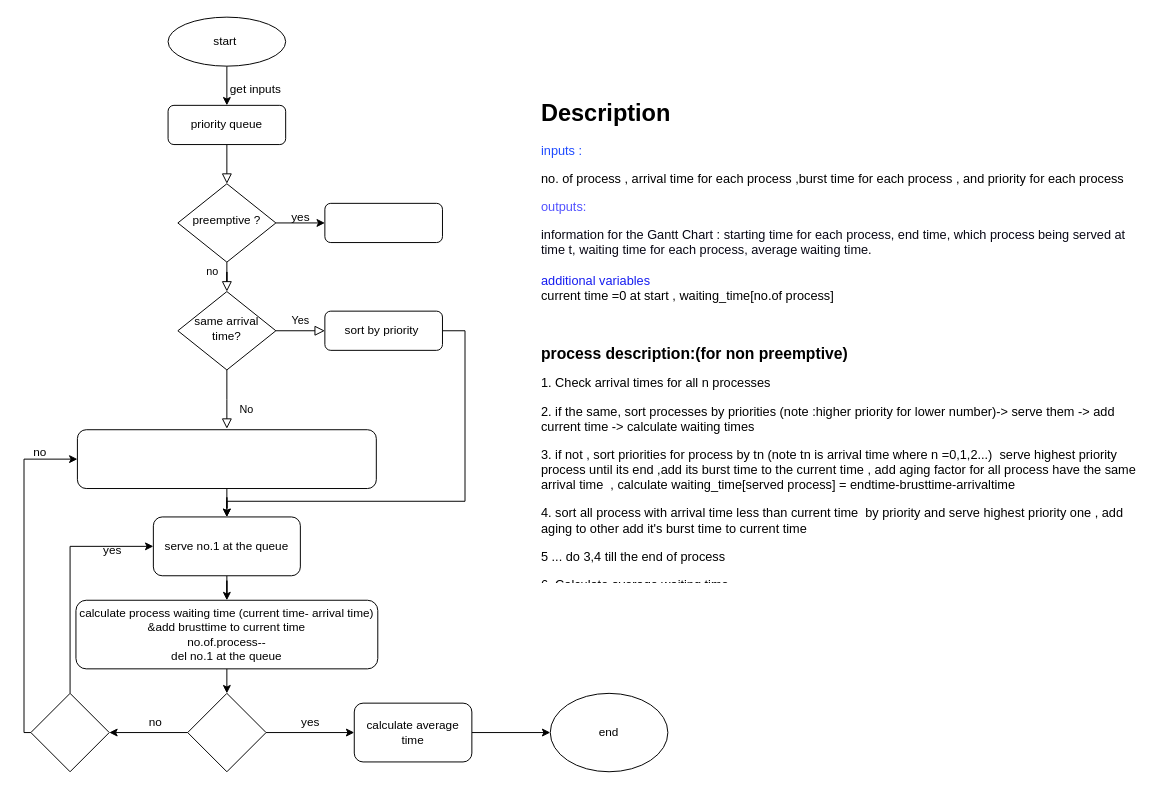
This 1171x789 diagram has some shape labels left out. Each missing label, with the centre of its shape:
preemptive priority queue: point (383, 222)
process=0?: point (226, 732)
same arrival?: point (69, 732)
sort all process with arrival time < =current time by priority: point (226, 459)
